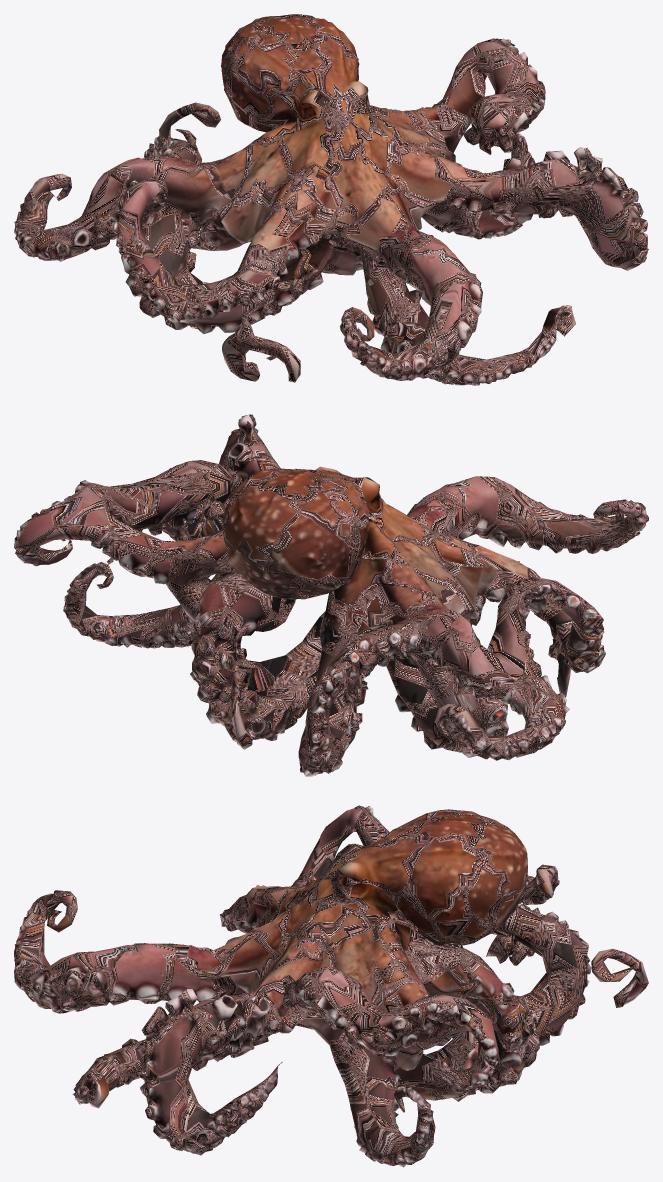
File: giant-octopus.glb
3 renders of one model, top to bottom at view 1: azimuth 30°, elevation 25°; view 2: azimuth 150°, elevation 25°; view 3: azimuth 270°, elevation 25°, orthographic. The views are drawn at different scales.
Bounding box in the file's own units: 1.86 × 0.8973 × 1.9.
1 material, 1 textured.
